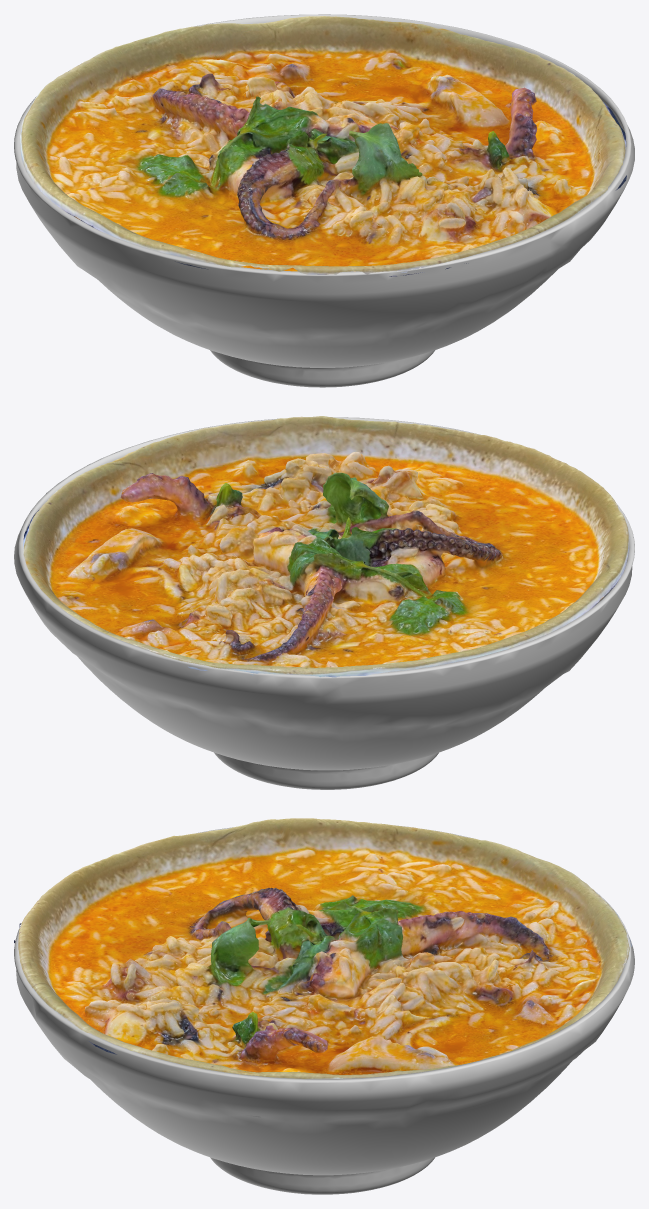
The model's file is ArrozPolvo.glb.
3 views of the same model, one above another, from view 1: azimuth 30°, elevation 25°; view 2: azimuth 150°, elevation 25°; view 3: azimuth 270°, elevation 25° (orthographic).
Parts seen in each view (by area): view 1: Mesh_0.001, Bowl_Mesh; view 2: Mesh_0.001, Bowl_Mesh; view 3: Mesh_0.001, Bowl_Mesh.
Boxes of the visible parts, x1=… form: Mesh_0.001: x1=20, y1=16, x2=626, y2=276; Bowl_Mesh: x1=14, y1=14, x2=634, y2=387; Mesh_0.001: x1=23, y1=416, x2=629, y2=677; Bowl_Mesh: x1=14, y1=417, x2=634, y2=789; Mesh_0.001: x1=14, y1=818, x2=631, y2=1078; Bowl_Mesh: x1=14, y1=825, x2=634, y2=1194.
Size of the model in its own units: 0.1591 by 0.0678 by 0.159.
2 materials, 1 textured.
